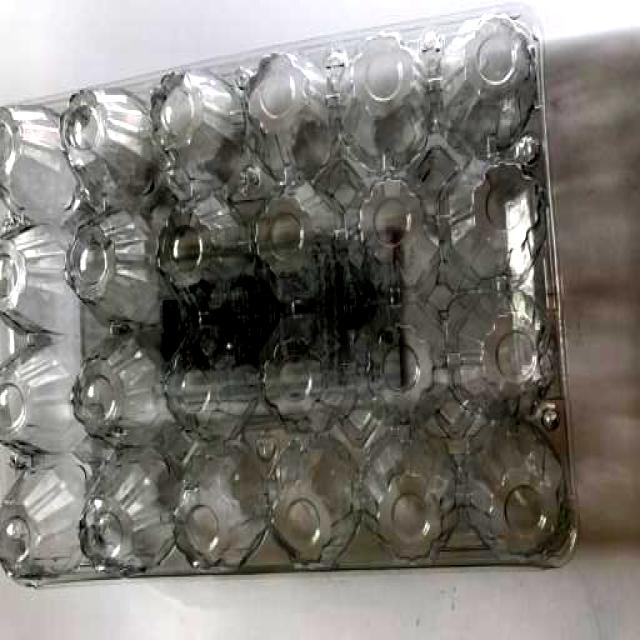Plastic: (0, 0, 585, 589)
